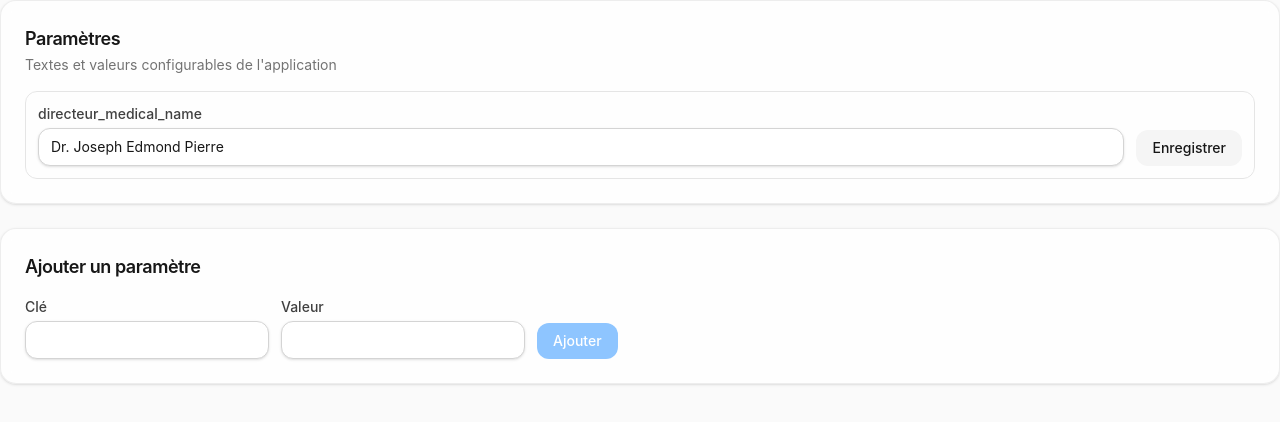
it: SettingsPage › shows an error when saving a setting fails
Replace the text in the field labelled "directeur_medical_name" with "Dr. Nouveau Nom" at point(581, 147), box left=38, top=128, right=1124, bottom=166
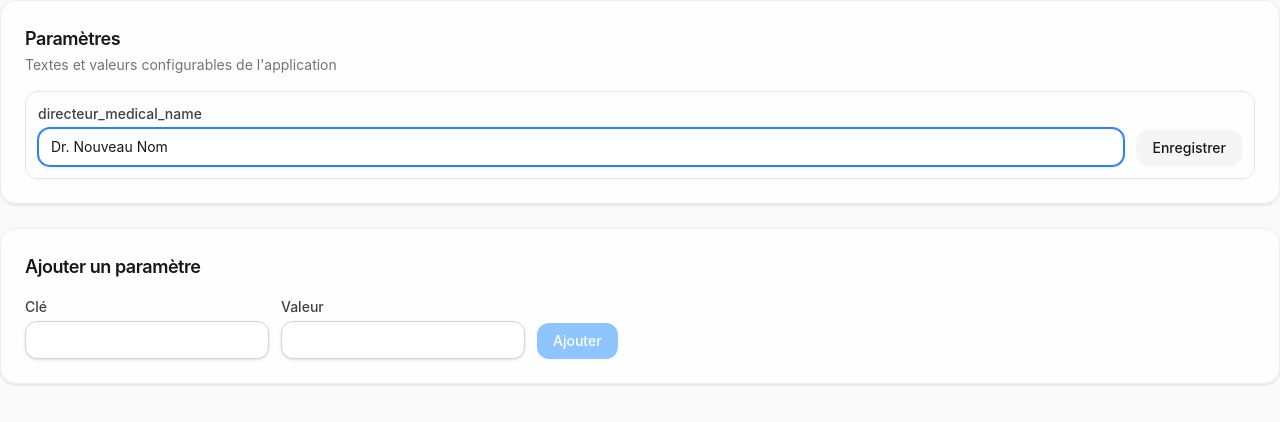
Click the button "Enregistrer".
click(1189, 148)  # box left=1136, top=130, right=1242, bottom=166
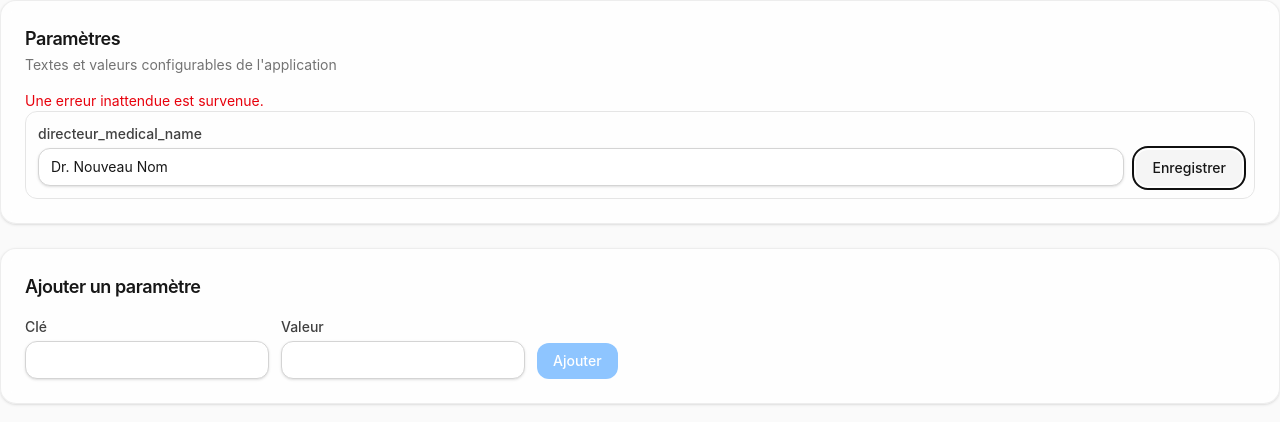
Result: the text "Une erreur inattendue est survenue." is shown at left=25, top=92, right=264, bottom=109
